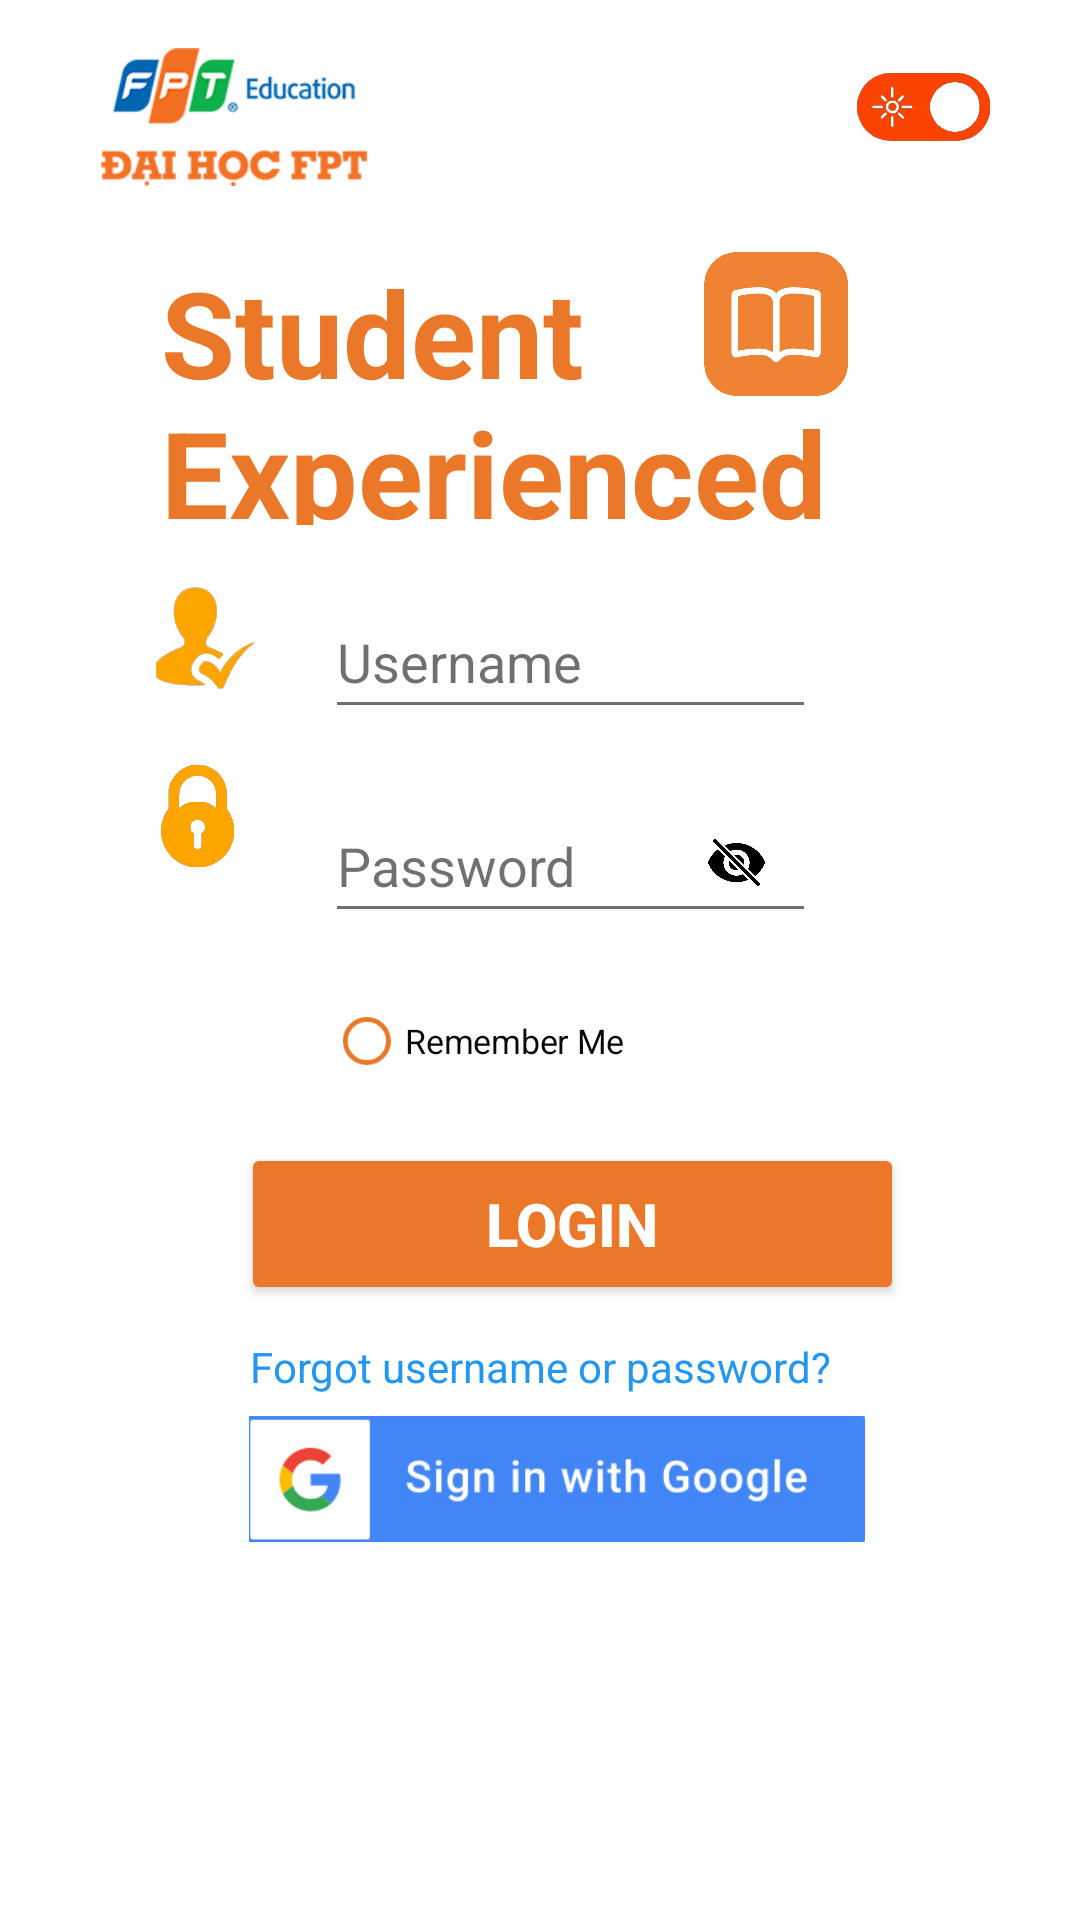

Where icons sit on this 1080×1920 app screen, as (x1, y1, x2, y2):
book: (704, 252, 848, 396)
eye: (708, 839, 765, 886)
lightmode: (857, 73, 990, 141)
